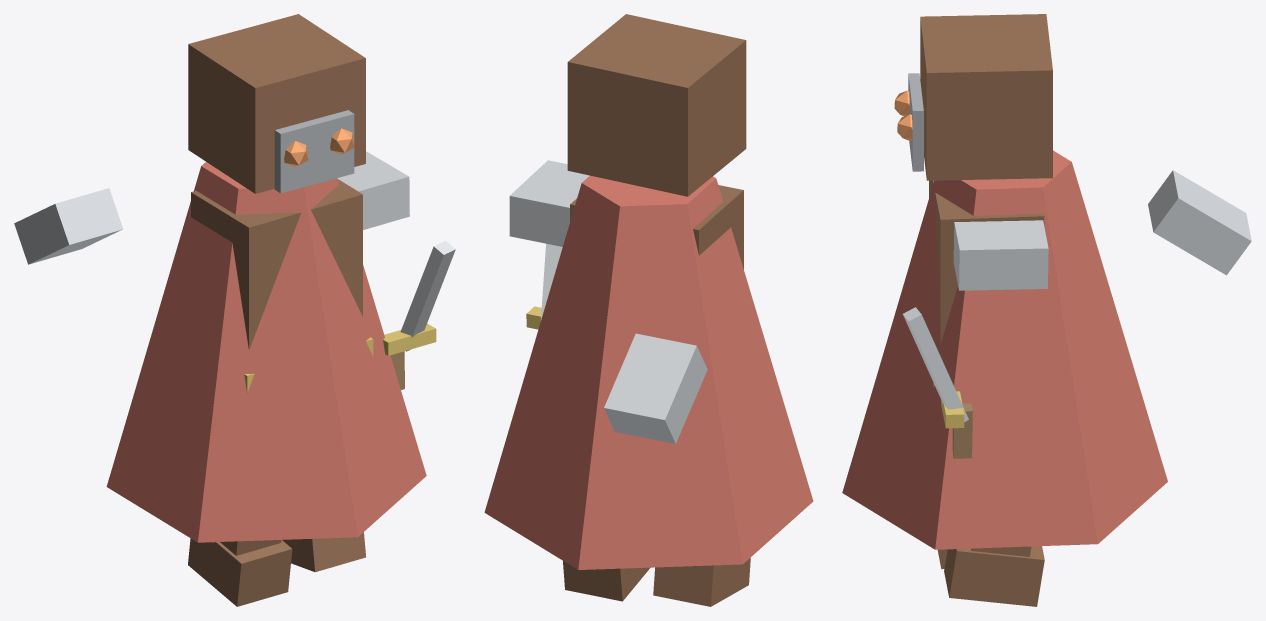
The model's file is npcpose_raider_attack_02.glb.
3 views of the same model, side by side, from view 1: azimuth 30°, elevation 25°; view 2: azimuth 150°, elevation 25°; view 3: azimuth 270°, elevation 25° (orthographic). The views are drawn at different scales.
Parts seen in each view (by area): view 1: npcpose; view 2: npcpose; view 3: npcpose.
Boxes of the visible parts, x1=… form: npcpose: x1=14, y1=14, x2=455, y2=606; npcpose: x1=484, y1=14, x2=813, y2=606; npcpose: x1=842, y1=14, x2=1251, y2=606.
Bounding box in the file's own units: 0.8727 × 1.58 × 1.1.
